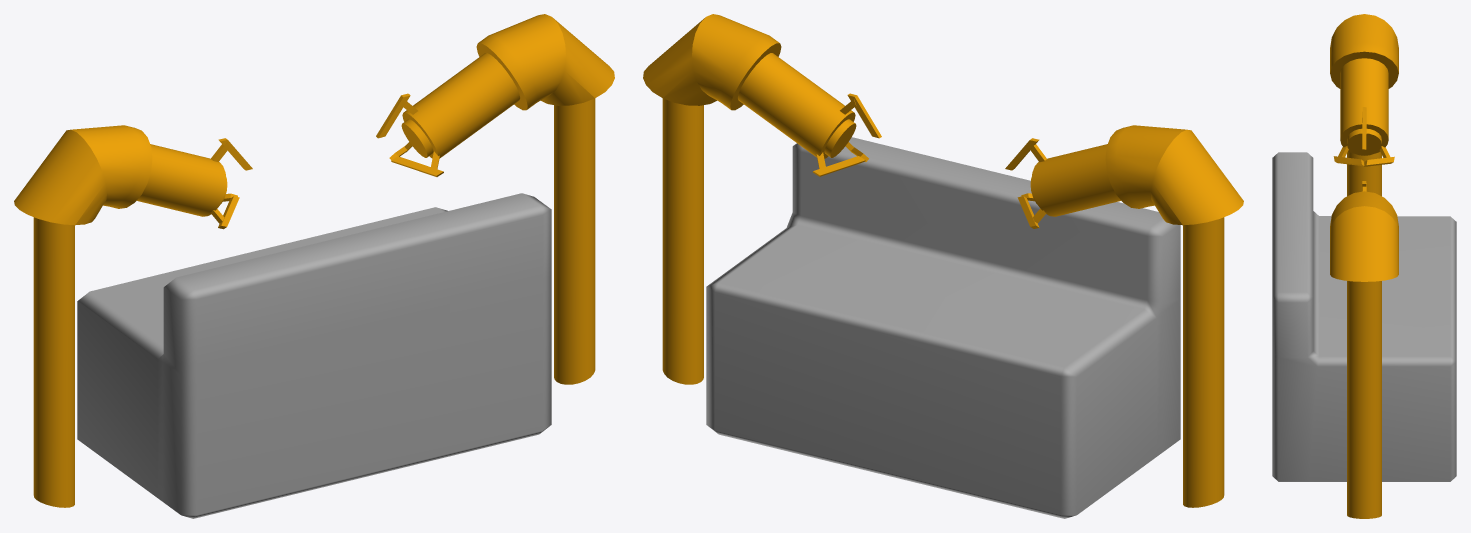
Rendered from ScienceTable.fbx.
The picture shows the model from 3 angles, left to right: view 1: azimuth 30°, elevation 25°; view 2: azimuth 150°, elevation 25°; view 3: azimuth 270°, elevation 25°; orthographic projection. The views are drawn at different scales.
Parts seen in each view (by area): view 1: Bench, pCylinder4 (×2); view 2: Bench, pCylinder4 (×2); view 3: Bench, pCylinder4 (×2).
Part boxes in pixels (<box>): Bench: <box>77,193,551,518</box>; pCylinder4 (×2): <box>14,14,614,507</box>; Bench: <box>706,137,1180,518</box>; pCylinder4 (×2): <box>643,14,1243,507</box>; Bench: <box>1272,152,1456,481</box>; pCylinder4 (×2): <box>1330,14,1398,518</box>.
Size of the model in its own units: 307 by 182 by 100.
